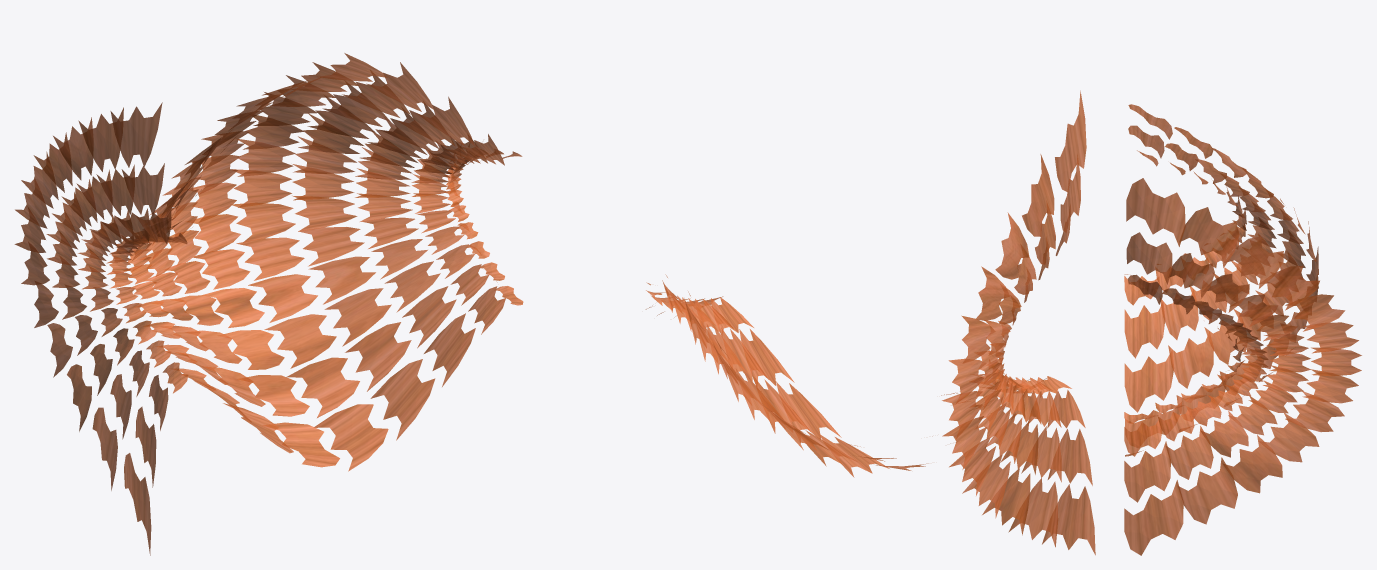
The model's file is peppermintspider2.glb.
3 views of the same model, side by side, from view 1: azimuth 30°, elevation 25°; view 2: azimuth 150°, elevation 25°; view 3: azimuth 270°, elevation 25° (orthographic). The views are drawn at different scales.
Parts seen in each view (by area): view 1: [0]; view 2: [0]; view 3: [0].
Boxes of the visible parts, x1,y1,x2,y2 form: [0]: [14, 53, 523, 555]; [0]: [645, 90, 1095, 555]; [0]: [1124, 104, 1361, 555].
Bounding box in the file's own units: 1.68 × 1.88 × 1.03.
Materials: 1 (1 with a texture image).
